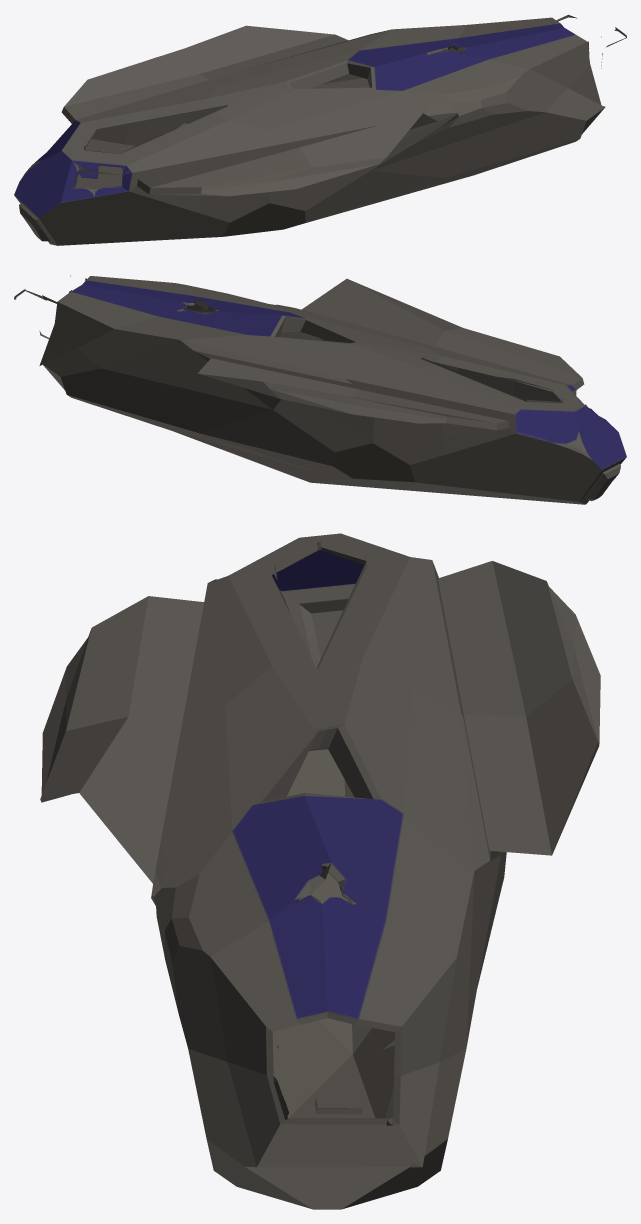
File: SubwreckTextured.fbx
3 views of the same model, one above another, from view 1: azimuth 30°, elevation 25°; view 2: azimuth 150°, elevation 25°; view 3: azimuth 270°, elevation 25° (orthographic). The views are drawn at different scales.
Parts seen in each view (by area): view 1: SubWreck; view 2: SubWreck; view 3: SubWreck.
Boxes of the visible parts, x1,y1,x2,y2 form: SubWreck: [14, 14, 626, 245]; SubWreck: [14, 275, 626, 504]; SubWreck: [40, 533, 600, 1209].
Size of the model in its own units: 2540 by 612 by 1040.
